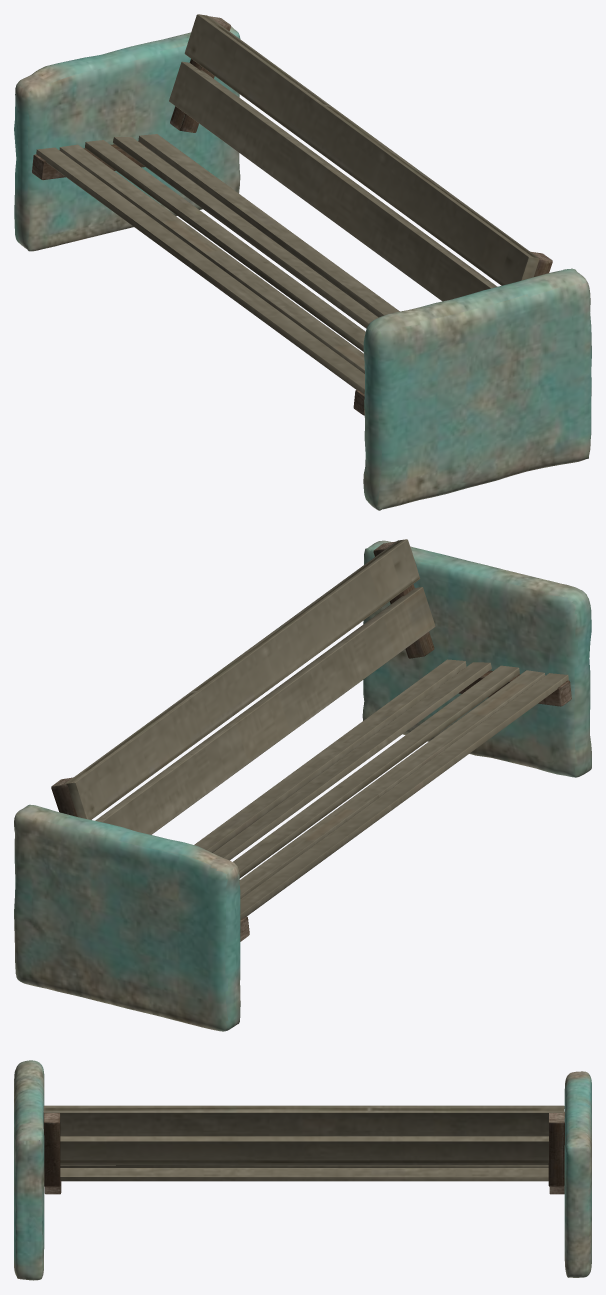
The model's file is sov_bench.glb.
The picture shows the model from 3 angles, top to bottom: view 1: azimuth 30°, elevation 25°; view 2: azimuth 150°, elevation 25°; view 3: azimuth 270°, elevation 25°; orthographic projection. The views are drawn at different scales.
Visible parts, largest first — view 1: Bench_sides, Bench_crossbeams_up, Bench_crossbeams_down, Bench_fastening; view 2: Bench_sides, Bench_crossbeams_up, Bench_crossbeams_down, Bench_fastening; view 3: Bench_crossbeams_up, Bench_sides, Bench_crossbeams_down, Bench_fastening.
Part boxes in pixels (box(x1,y1,x2,y2)): Bench_sides: box(14, 26, 591, 510); Bench_crossbeams_up: box(169, 14, 539, 301); Bench_crossbeams_down: box(36, 134, 399, 393); Bench_fastening: box(32, 16, 552, 415); Bench_sides: box(14, 540, 591, 1031); Bench_crossbeams_up: box(65, 539, 435, 834); Bench_crossbeams_down: box(194, 659, 568, 919); Bench_fastening: box(51, 541, 571, 941); Bench_crossbeams_up: box(43, 1105, 564, 1165); Bench_sides: box(14, 1060, 591, 1280); Bench_crossbeams_down: box(60, 1165, 548, 1181); Bench_fastening: box(43, 1112, 564, 1194).
Size of the model in its own units: 0.6484 by 0.5778 by 1.9.
Materials: 4 (4 with a texture image).
